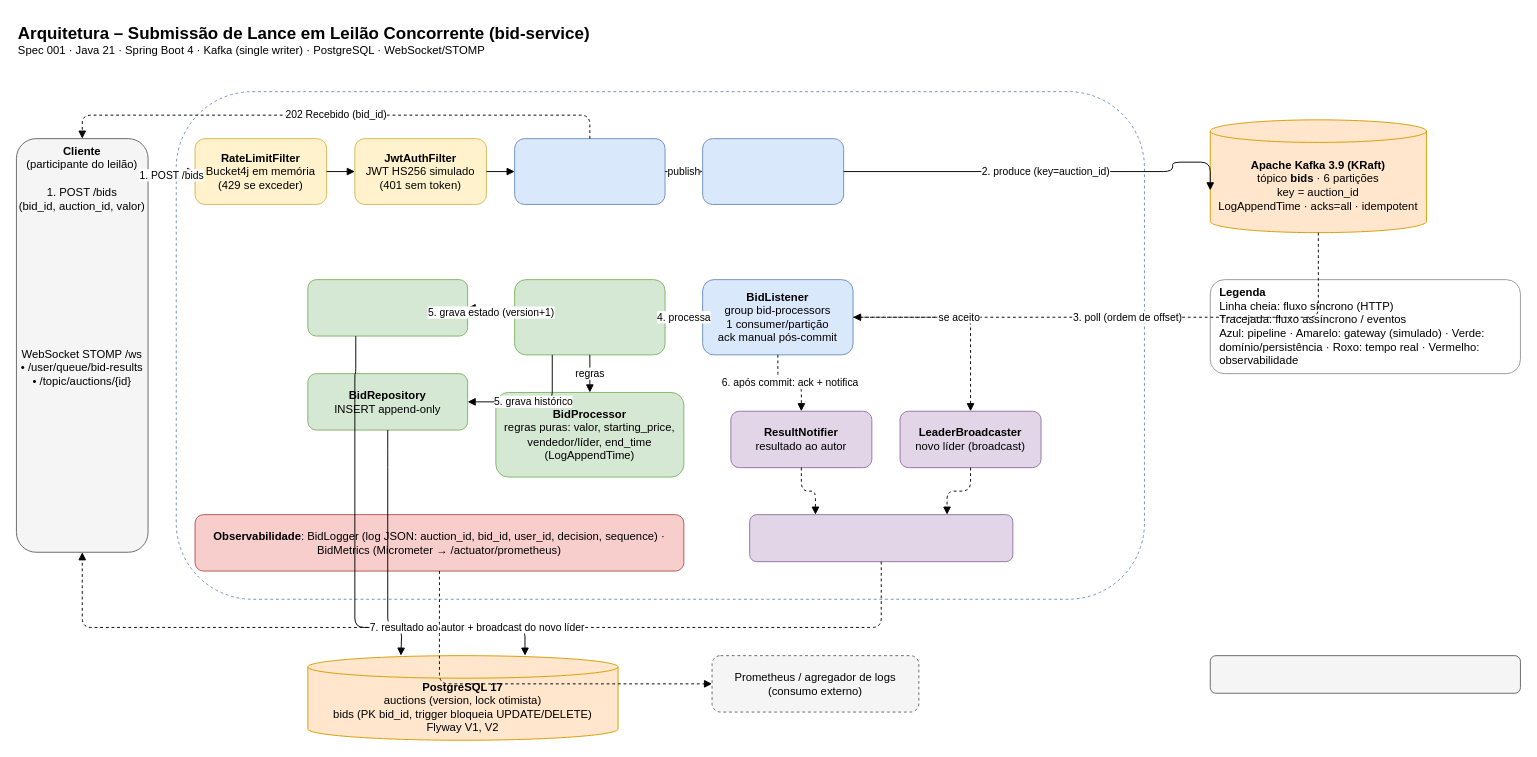
The diagram is 1537 pixels wide and 757 high, and some of its shapes have lost their labels. Each missing label, with the box of its shape:
AuctionRepository UPDATE ... WHERE version=?: (307, 279, 468, 336)
bid-service (aplicação Spring Boot única): (175, 91, 1144, 599)
BidController POST /bids → 202 Recebido + RiskTierResolver: (514, 138, 665, 204)
BidPipeline KafkaBidPipeline (risk_tier no header): (702, 138, 844, 204)
BidTransactionService @Transactional idempotência por bid_id: (514, 279, 665, 355)
Docker Compose : app · kafka · kafka-init (cria tópico) · postgres: (1209, 655, 1520, 693)
WebSocketConfig STOMP /ws · SimpleBroker /topic, /queue: (749, 514, 1013, 562)
